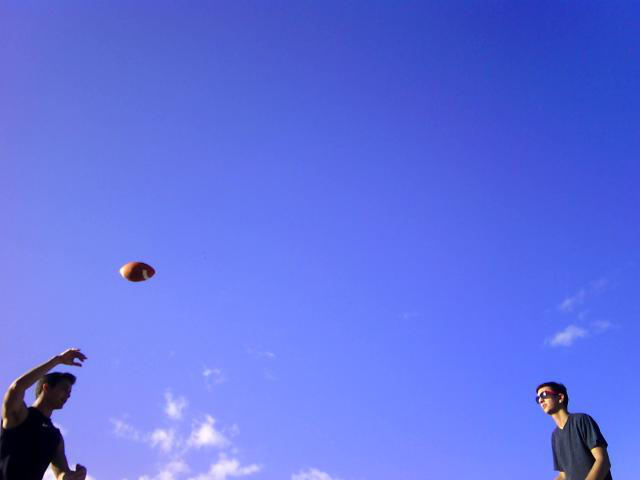football: (117, 260, 157, 284)
